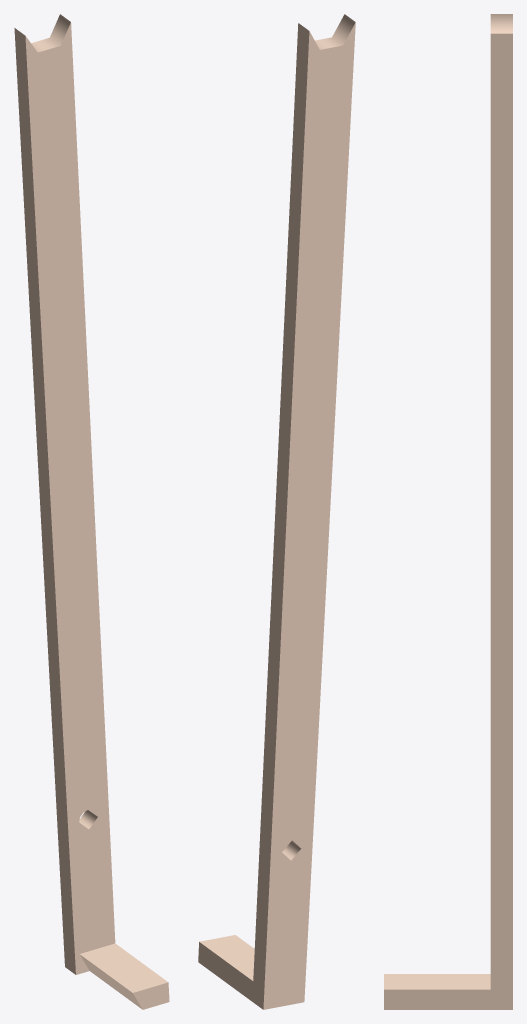
The model's file is Pied detente Cremaillere_Heures.obj.
3 views of the same model, side by side, from view 1: azimuth 30°, elevation 25°; view 2: azimuth 210°, elevation 25°; view 3: azimuth 270°, elevation 25° (orthographic).
Parts seen in each view (by area): view 1: Face_4, Face_6, Face_1, Face_2, Face_10, Face_8; view 2: Face_3, Face_7, Face_1, Face_10; view 3: Face_7, Face_1, Face_10.
Boxes of the visible parts, x1,y1,x2,y2 form: Face_4: (25,23,115,974); Face_6: (14,28,75,974); Face_1: (80,943,167,992); Face_2: (133,982,169,1009); Face_10: (31,14,70,52); Face_8: (80,954,142,1009); Face_3: (263,23,355,1009); Face_7: (198,23,309,1009); Face_1: (199,935,254,980); Face_10: (315,14,355,49); Face_7: (384,33,512,1009); Face_1: (384,974,490,989); Face_10: (490,14,512,33).
Size of the model in its own units: 0.0119 by 0.1197 by 0.0146.
